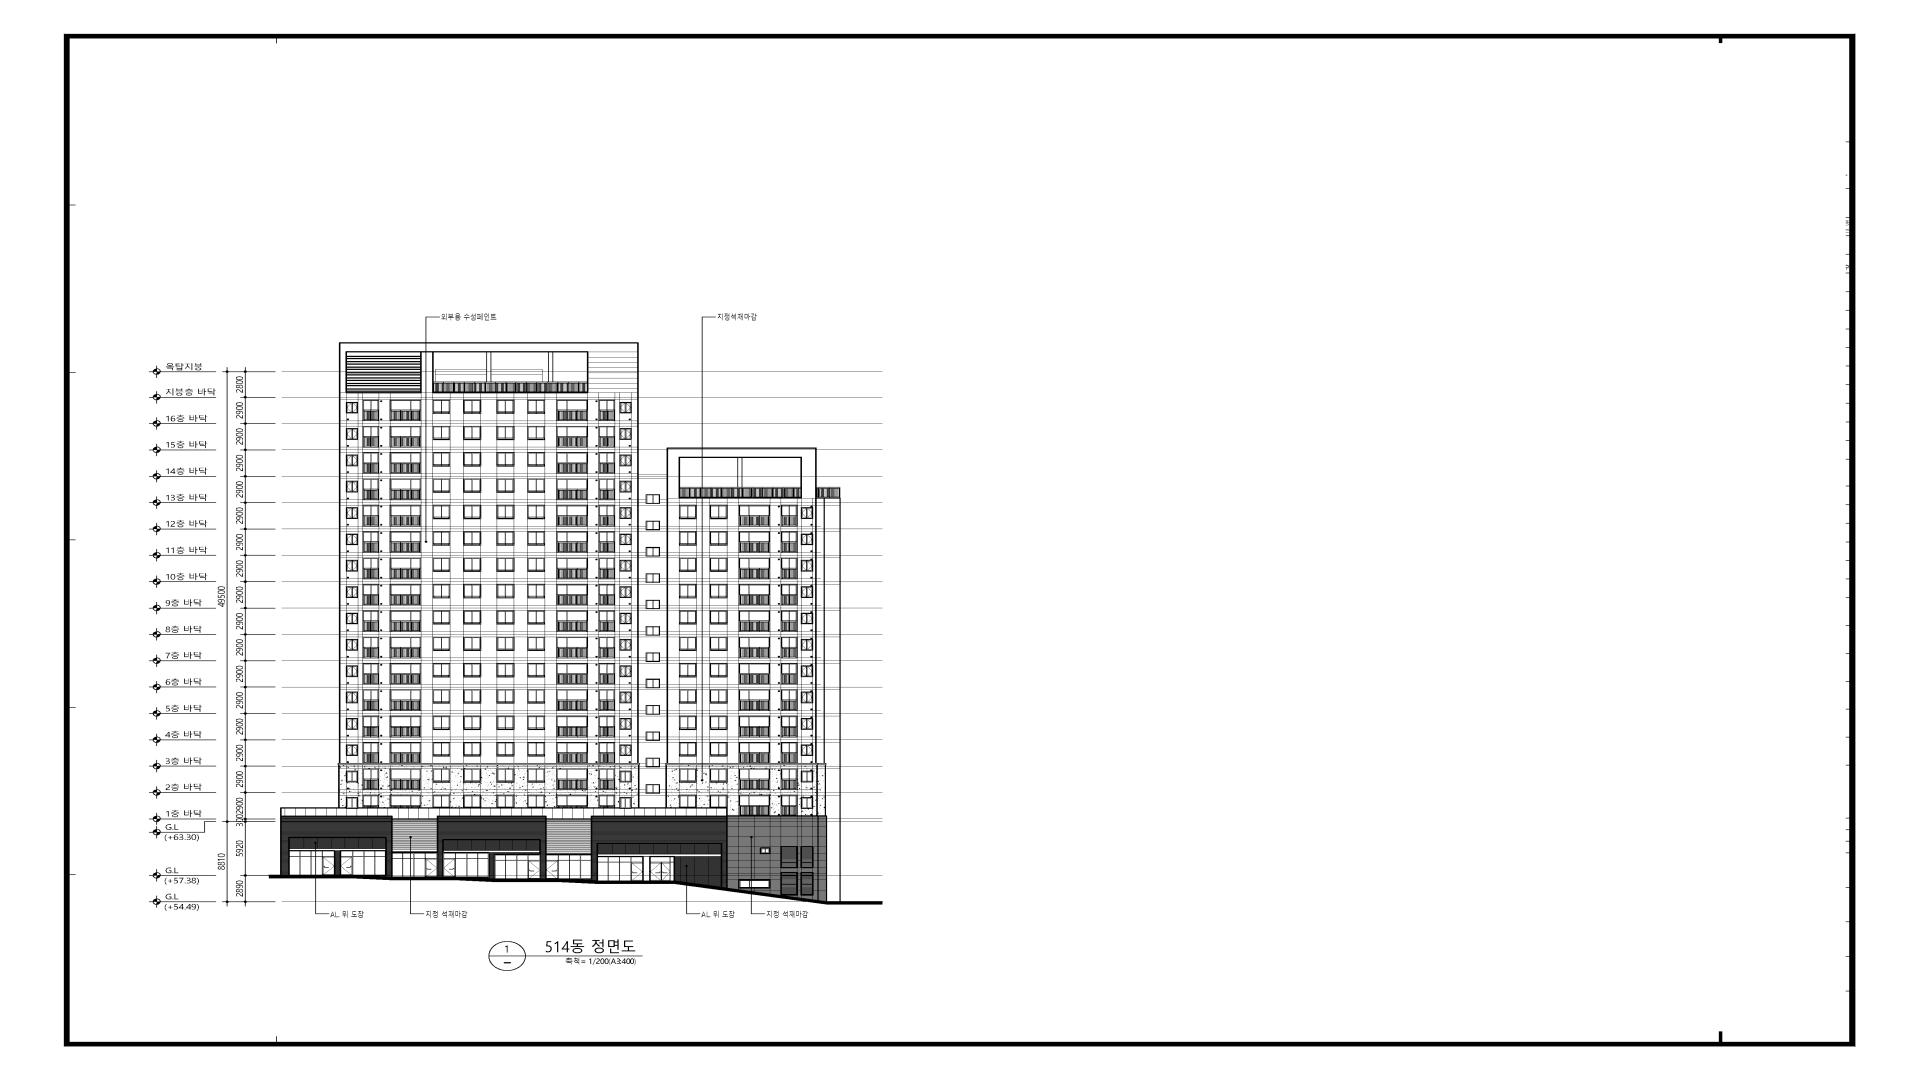door: (425, 858, 437, 877), (444, 858, 456, 877), (631, 862, 643, 881), (322, 856, 334, 875), (341, 856, 353, 875), (528, 860, 540, 878), (547, 860, 558, 879), (651, 862, 661, 881), (661, 862, 671, 881)
wall: (280, 342, 841, 905)
window: (738, 531, 770, 553), (738, 558, 770, 580), (738, 610, 770, 632), (556, 663, 588, 685), (389, 689, 421, 711), (389, 769, 421, 791), (556, 426, 588, 448), (556, 452, 588, 474), (389, 426, 421, 448), (389, 452, 421, 474), (389, 478, 421, 500), (390, 531, 422, 553), (389, 610, 421, 632), (739, 637, 770, 659), (739, 742, 770, 764), (390, 742, 421, 764), (557, 584, 588, 606), (557, 637, 588, 659), (556, 400, 588, 421), (738, 505, 770, 526), (738, 690, 770, 711), (738, 769, 770, 790), (738, 795, 770, 816), (556, 716, 588, 737), (389, 637, 421, 658), (390, 716, 422, 737), (556, 479, 588, 500), (556, 532, 588, 553), (556, 558, 588, 579), (390, 584, 422, 605), (390, 400, 421, 421), (739, 584, 770, 605), (739, 663, 770, 684), (739, 716, 770, 737), (557, 690, 588, 711), (557, 742, 588, 763), (557, 769, 588, 790), (390, 663, 421, 684), (557, 505, 588, 526), (557, 611, 588, 632), (390, 505, 421, 526), (390, 558, 421, 579), (556, 795, 588, 809), (389, 795, 421, 809), (780, 872, 798, 896), (780, 846, 798, 868), (781, 531, 798, 553), (598, 452, 615, 474), (598, 531, 615, 553), (598, 610, 615, 632), (781, 558, 798, 580), (781, 584, 798, 606), (781, 742, 798, 764), (598, 663, 615, 685), (781, 505, 798, 526), (598, 426, 615, 447), (781, 611, 798, 632), (781, 637, 798, 658), (781, 663, 798, 684), (781, 690, 798, 711), (781, 716, 798, 737), (781, 769, 798, 790), (781, 795, 798, 816), (598, 690, 615, 711), (598, 716, 615, 737), (598, 769, 615, 790), (362, 479, 379, 500), (362, 558, 379, 579), (362, 769, 379, 790), (599, 742, 615, 764), (363, 452, 379, 474), (363, 531, 379, 553), (363, 637, 379, 659), (363, 663, 379, 685), (363, 742, 379, 764), (363, 400, 379, 421), (599, 400, 615, 421), (599, 479, 615, 500), (599, 505, 615, 526), (599, 558, 615, 579), (599, 584, 615, 605), (800, 872, 814, 896), (599, 637, 615, 658), (363, 426, 379, 447), (363, 505, 379, 526), (363, 584, 379, 605), (363, 611, 379, 632), (363, 690, 379, 711), (363, 716, 379, 737), (738, 879, 771, 889), (800, 846, 814, 868), (497, 742, 515, 757), (463, 452, 481, 467), (463, 531, 481, 546), (463, 584, 481, 599), (432, 531, 450, 546), (463, 689, 481, 704), (463, 742, 481, 757), (433, 689, 451, 704), (710, 531, 728, 546), (679, 531, 697, 546), (679, 557, 697, 572), (679, 610, 697, 625), (710, 610, 728, 625), (527, 452, 545, 467), (527, 531, 545, 546), (497, 452, 515, 467), (497, 478, 515, 493), (497, 531, 515, 546), (497, 584, 515, 599), (527, 610, 545, 625), (527, 663, 545, 678), (527, 689, 545, 704), (496, 610, 514, 625), (497, 689, 515, 704), (527, 742, 545, 757), (679, 663, 697, 678), (710, 689, 728, 704), (433, 742, 451, 757), (496, 795, 515, 809), (433, 452, 450, 467), (433, 610, 450, 625), (464, 663, 481, 678), (463, 400, 481, 414), (496, 400, 514, 414), (527, 400, 545, 414), (679, 505, 697, 519), (710, 505, 728, 519), (497, 769, 515, 783), (527, 795, 545, 809), (463, 426, 481, 440), (464, 479, 482, 493), (463, 505, 481, 519), (463, 558, 481, 572), (463, 610, 481, 624), (463, 637, 481, 651), (463, 716, 481, 730), (433, 716, 451, 730), (709, 558, 727, 572), (710, 584, 728, 598), (679, 584, 697, 598), (709, 637, 727, 651), (710, 663, 728, 677), (527, 426, 545, 440), (497, 426, 515, 440), (527, 479, 545, 493), (527, 505, 545, 519), (527, 584, 545, 598), (497, 505, 515, 519), (497, 558, 515, 572), (527, 637, 545, 651), (497, 637, 515, 651), (497, 663, 515, 677), (496, 716, 514, 730), (527, 769, 545, 783), (679, 637, 697, 651), (710, 716, 728, 730), (710, 742, 728, 756), (679, 690, 697, 704), (679, 716, 697, 730), (679, 742, 697, 756), (710, 769, 728, 783), (679, 769, 697, 783), (679, 795, 697, 809), (710, 795, 728, 809), (463, 769, 481, 783), (432, 769, 450, 783), (463, 795, 481, 809), (433, 400, 450, 414), (433, 426, 450, 440), (433, 479, 450, 493), (433, 505, 450, 519), (433, 558, 450, 572), (433, 584, 450, 598), (433, 637, 450, 651), (433, 663, 450, 677), (528, 558, 545, 572), (528, 716, 545, 730), (598, 795, 615, 809), (433, 795, 450, 809), (362, 795, 379, 809), (619, 718, 632, 730), (619, 797, 632, 809), (619, 428, 632, 440), (619, 507, 632, 519), (619, 586, 632, 598), (619, 639, 632, 651), (346, 402, 358, 414), (801, 507, 813, 519), (801, 586, 813, 598), (801, 639, 813, 651), (801, 718, 813, 730), (801, 797, 813, 809), (620, 560, 632, 572), (346, 428, 358, 440), (346, 507, 358, 519), (346, 586, 358, 598), (346, 718, 358, 730), (346, 797, 358, 809), (619, 666, 632, 677), (619, 692, 632, 703), (619, 745, 632, 756), (619, 481, 632, 492), (619, 534, 632, 545), (619, 613, 632, 624), (646, 494, 660, 504), (646, 547, 660, 557), (646, 573, 660, 583), (646, 600, 660, 610), (646, 626, 660, 636), (646, 705, 660, 715), (646, 784, 660, 794), (620, 402, 632, 413), (801, 534, 813, 545), (801, 560, 813, 571), (801, 613, 813, 624), (801, 666, 813, 677), (801, 692, 813, 703), (801, 745, 813, 756), (801, 771, 813, 782), (620, 771, 632, 782), (620, 455, 632, 466), (346, 455, 358, 466), (346, 481, 358, 492), (346, 534, 358, 545), (346, 560, 358, 571), (346, 613, 358, 624), (346, 639, 358, 650), (346, 666, 358, 677), (346, 692, 358, 703), (346, 745, 358, 756), (346, 771, 358, 782), (646, 521, 660, 530), (646, 653, 660, 662), (646, 679, 660, 688), (646, 732, 660, 741), (646, 758, 660, 767), (760, 847, 771, 854)
